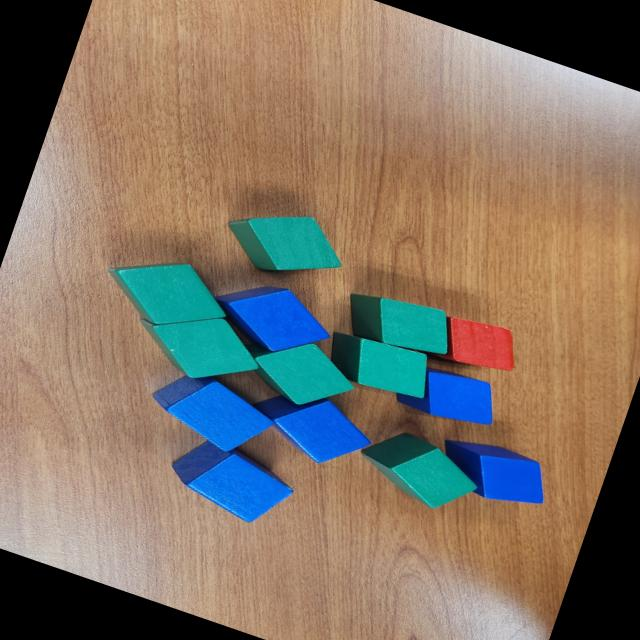blue: (160, 430, 304, 534), (238, 373, 380, 478), (202, 266, 342, 371), (142, 362, 282, 463), (429, 428, 556, 517), (392, 354, 504, 436)
green: (94, 238, 239, 346), (127, 293, 270, 398), (215, 192, 354, 296), (350, 420, 488, 520), (240, 324, 366, 421), (336, 279, 460, 367), (321, 323, 441, 406)
red: (431, 308, 526, 382)
